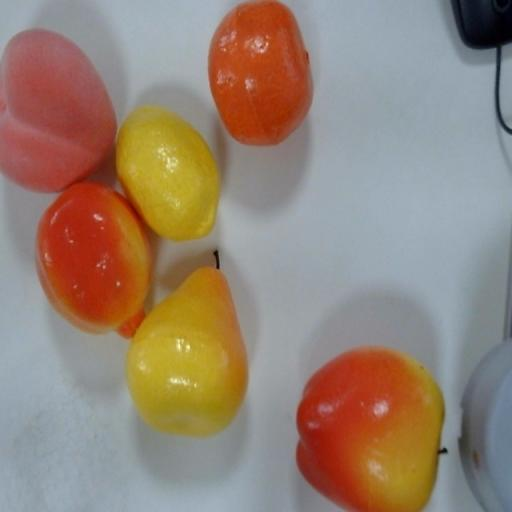Ripe: (293, 342, 452, 512), (123, 250, 253, 443), (0, 22, 116, 196), (35, 179, 153, 342), (204, 0, 316, 151), (114, 103, 218, 247)
